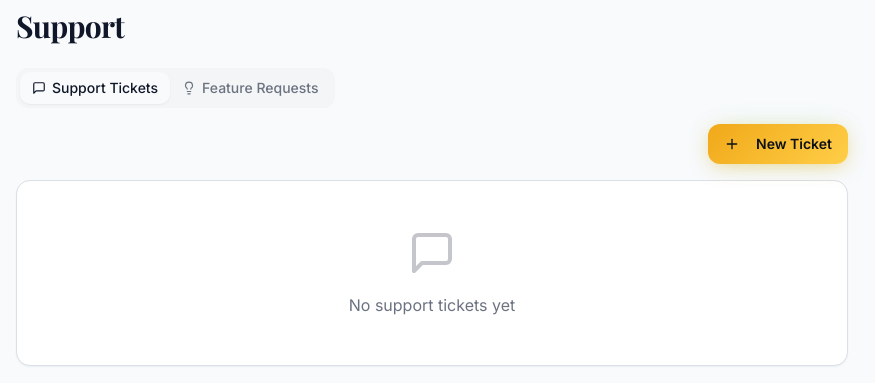
Test: Support › submits a feature request
Later steps or results of the test are not shown.
Expected: the text "No support tickets yet" is shown, 349,295 -> 515,315
Press the mouse on the tab "Feature Requests" at (250, 88), box 170,72 -> 330,104
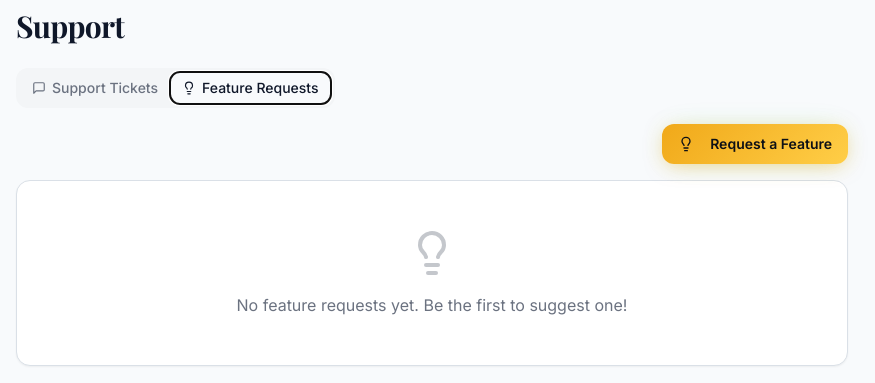
Click the tab "Feature Requests" at (250, 88), box 170,72 -> 330,104
Expected: the text "No feature requests yet. Be the first to suggest one!" is shown, 237,295 -> 628,315
